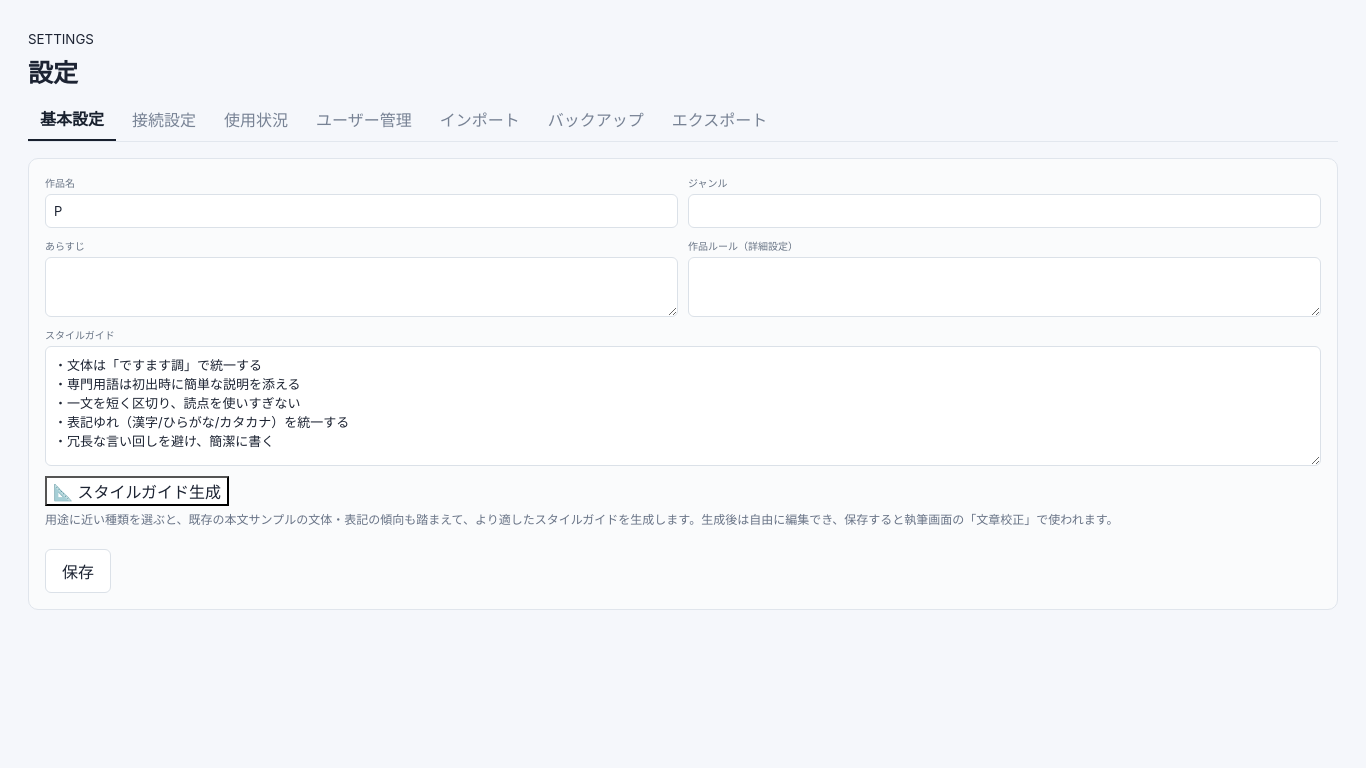
SettingsPanel usage tab › shows an unknown-cost marker when a model has no pricing entry
Click the button "使用状況". click: [256, 119]
box: [212,97,300,141]
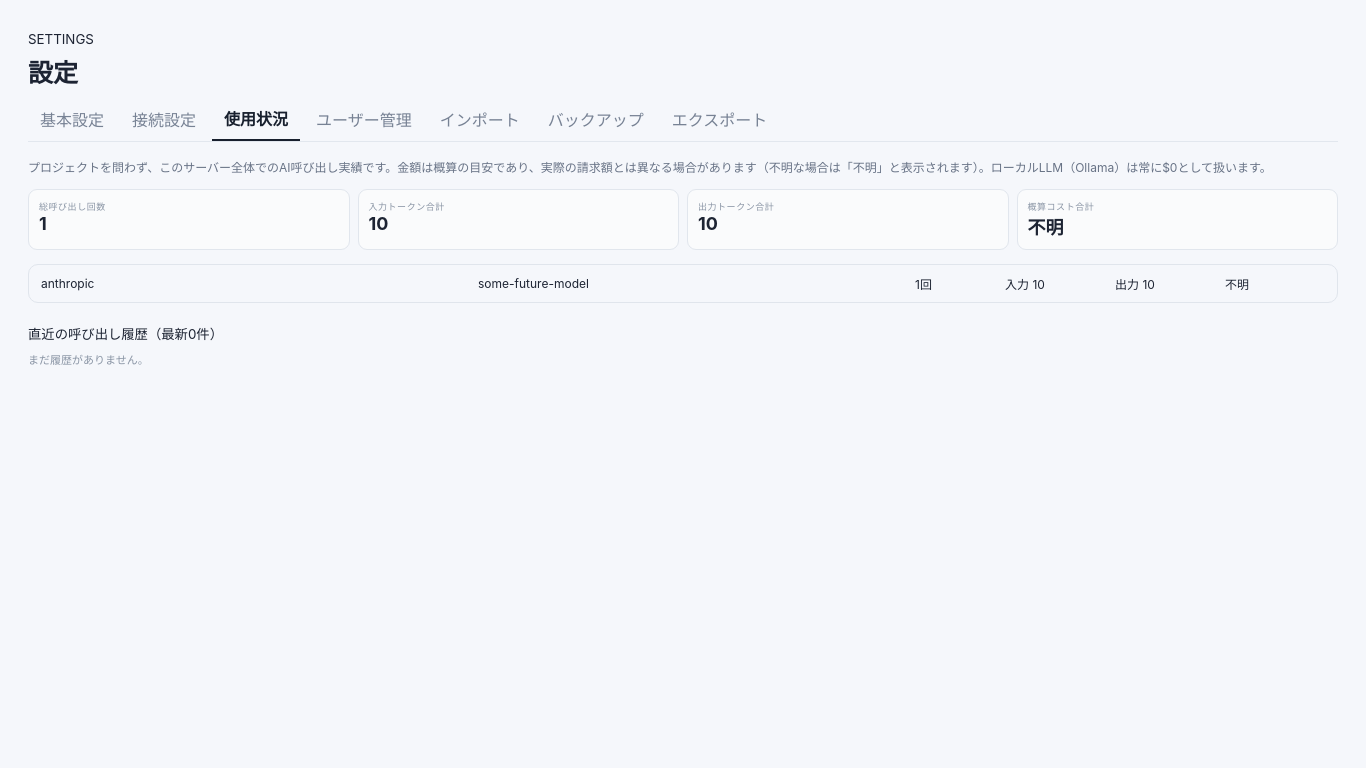
Check: the text "some-future-model" is shown, box [478,276,589,291]
Check: the text "不明" below "概算コスト合計" is shown, box [1028,217,1064,238]
